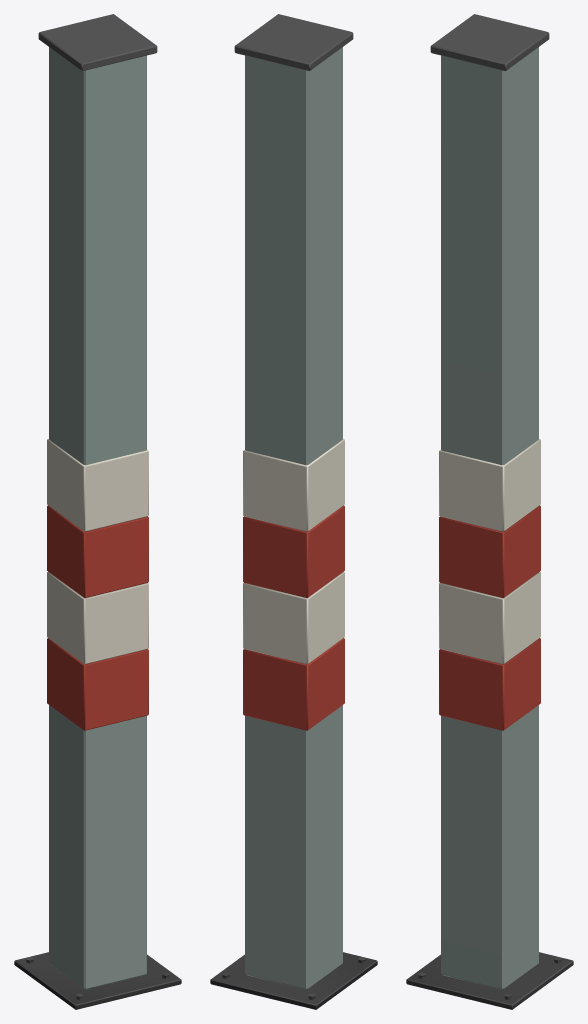
Rendered from gate_post.glb.
3 views of the same model, side by side, from view 1: azimuth 30°, elevation 25°; view 2: azimuth 150°, elevation 25°; view 3: azimuth 330°, elevation 25° (orthographic).
Visible parts, largest first — view 1: static; view 2: static; view 3: static.
Boxes of the visible parts, left/top/right/bottom form: static: left=14, top=14, right=181, bottom=1009; static: left=210, top=14, right=377, bottom=1009; static: left=406, top=14, right=573, bottom=1009.
Size of the model in its own units: 0.42 by 3.53 by 0.42.
